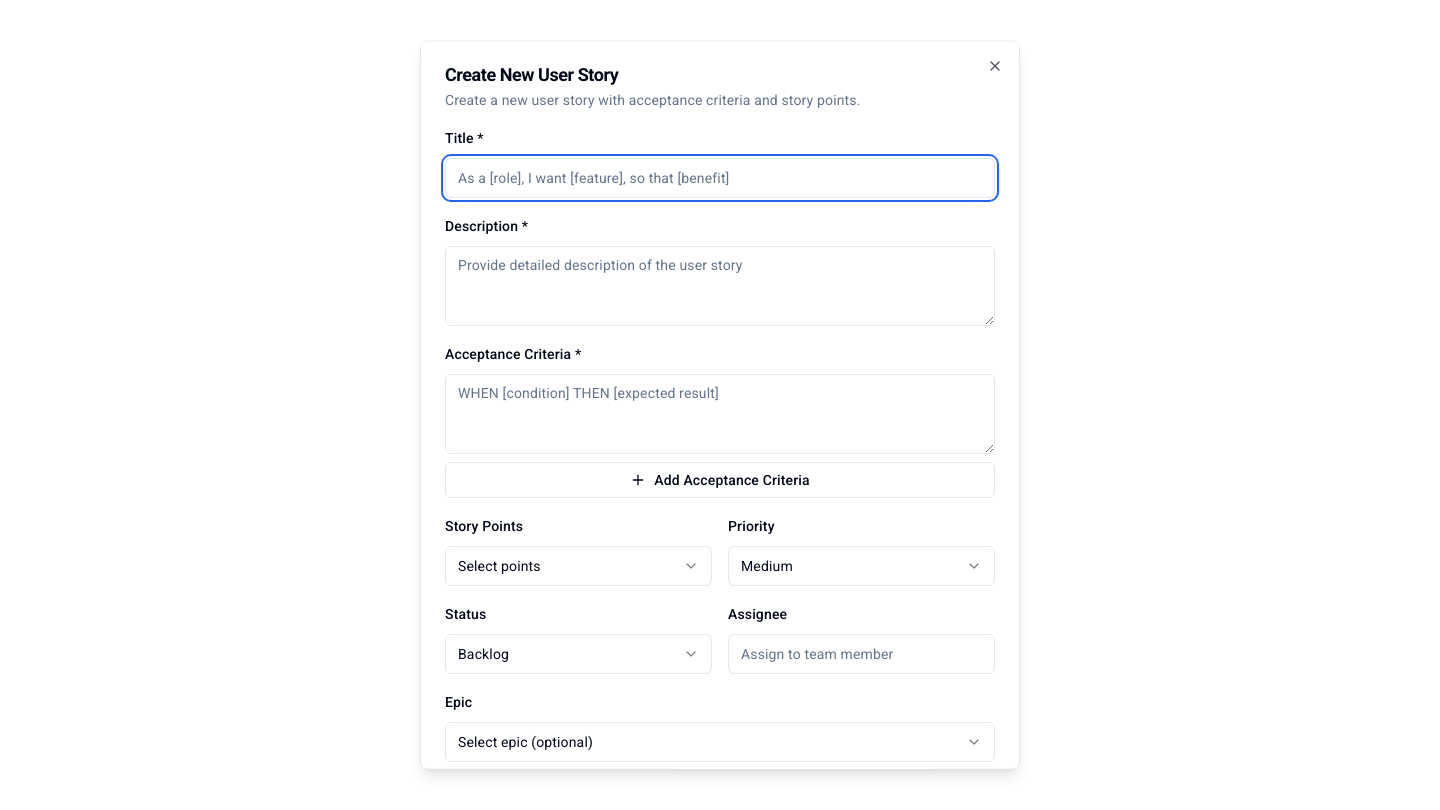
Test: UserStoryForm › adds acceptance criteria correctly
This screenshot has width=1440, height=810.
Expected: the number of text boxes with placeholder "WHEN [condition] THEN [expected result]" is 1, [445,374,995,454]
Click the button "Add Acceptance Criteria" at [720, 480], box [445,462,995,498]
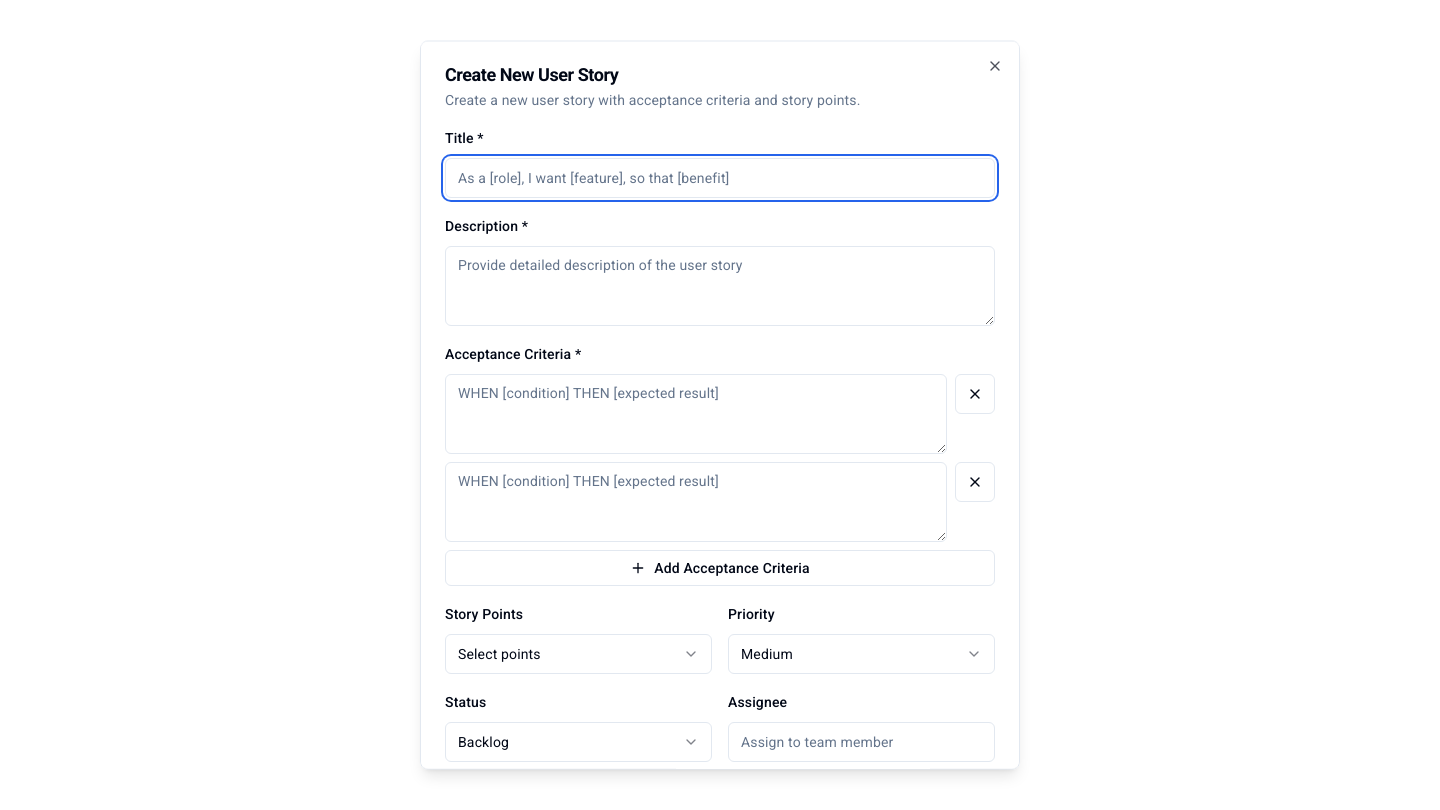
Expected: the number of text boxes with placeholder "WHEN [condition] THEN [expected result]" is 2, [445,374,947,454]; [445,462,947,542]
